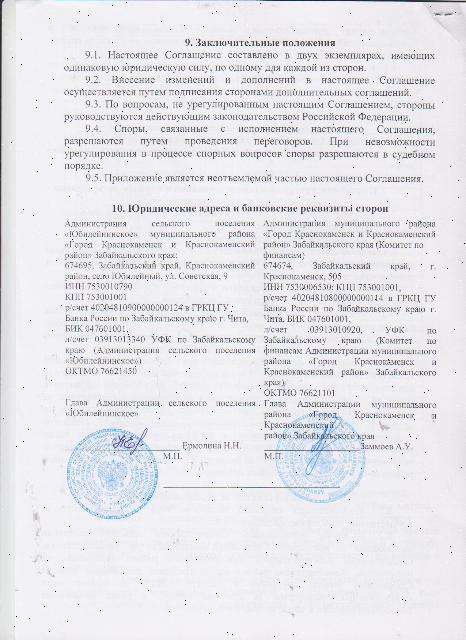stamp: (65, 428, 157, 520), (276, 412, 362, 502)
